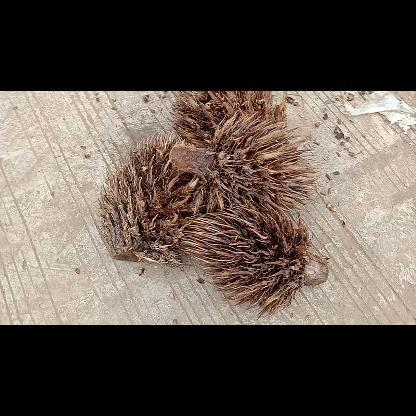Janjang kosong: (184, 206, 330, 312), (167, 111, 317, 213), (96, 128, 204, 262), (171, 91, 287, 149)
